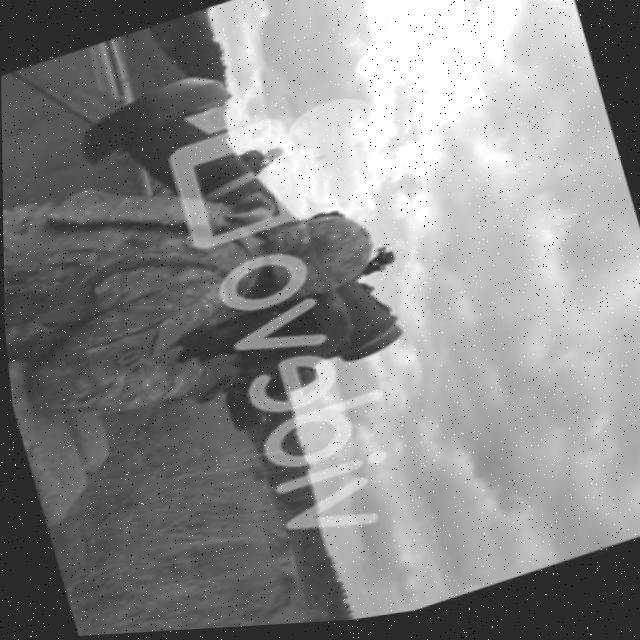rocket: (72, 32, 405, 428)
